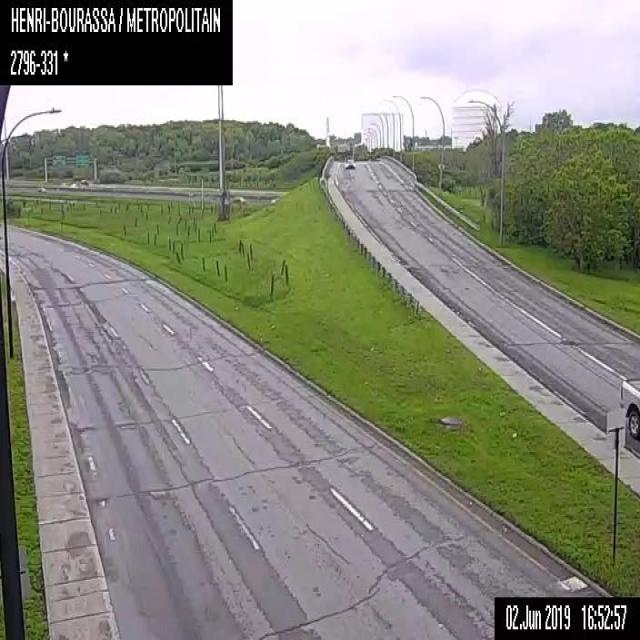vehicle: (617, 376, 639, 439), (344, 159, 356, 169)
